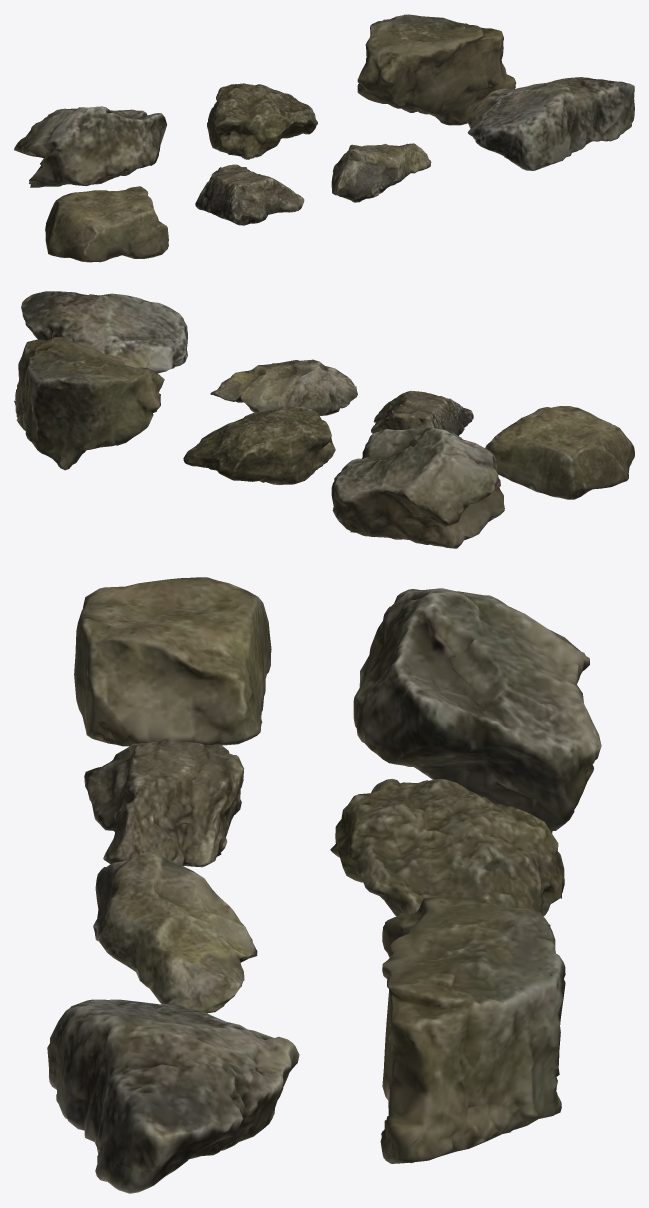
Rendered from rock_moss_set_02.glb.
The picture shows the model from 3 angles, top to bottom: view 1: azimuth 30°, elevation 25°; view 2: azimuth 150°, elevation 25°; view 3: azimuth 270°, elevation 25°; orthographic projection. The views are drawn at different scales.
Visible parts, largest first — view 1: rock_moss_set_02_rock08; view 2: rock_moss_set_02_rock08; view 3: rock_moss_set_02_rock08.
Part boxes in pixels (x1,y1,x2,y2): rock_moss_set_02_rock08: (14, 14, 634, 262); rock_moss_set_02_rock08: (14, 291, 634, 548); rock_moss_set_02_rock08: (47, 577, 601, 1193).
Bounding box in the file's own units: 8.28 × 1.37 × 3.41.
Materials: 1 (1 with a texture image).
